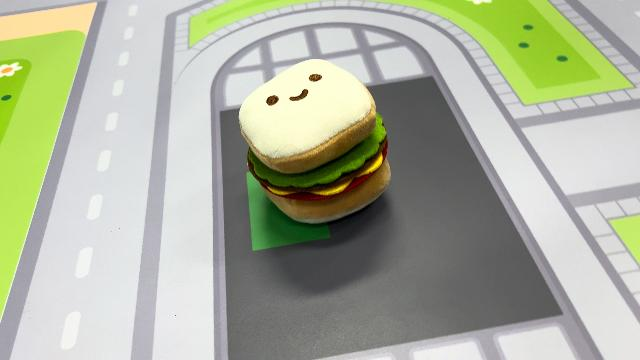sandwich: (236, 56, 394, 226)
